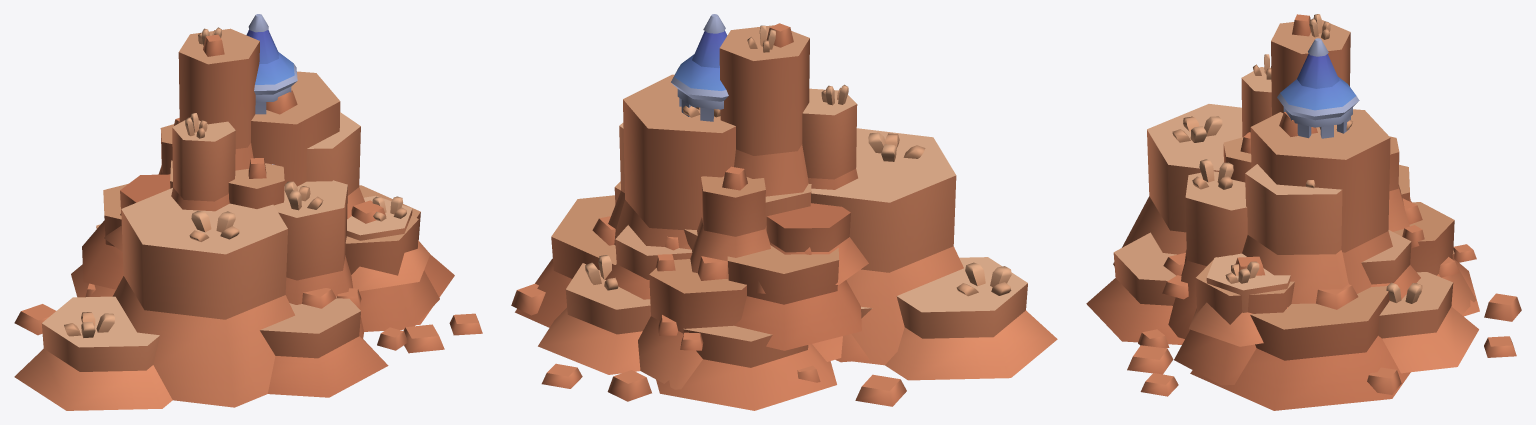
File: island.glb
3 views of the same model, side by side, from view 1: azimuth 30°, elevation 25°; view 2: azimuth 150°, elevation 25°; view 3: azimuth 270°, elevation 25° (orthographic). The views are drawn at different scales.
Parts seen in each view (by area): view 1: rocks-sand-a (×2), rocks-sand-b (×2), tower-complete-large; view 2: rocks-sand-a (×2), rocks-sand-b (×2), tower-complete-large, rocks-sand-c; view 3: rocks-sand-a (×2), rocks-sand-b (×2), tower-complete-large.
Part boxes in pixels (x1,y1,x2,y2): rocks-sand-a (×2): (14, 112, 482, 410); rocks-sand-b (×2): (85, 27, 439, 350); tower-complete-large: (246, 14, 297, 114); rocks-sand-a (×2): (515, 123, 1057, 410); rocks-sand-b (×2): (511, 23, 868, 401); tower-complete-large: (671, 14, 728, 121); rocks-sand-c: (835, 306, 872, 362); rocks-sand-a (×2): (1086, 104, 1516, 410); rocks-sand-b (×2): (1138, 14, 1521, 394); tower-complete-large: (1277, 38, 1359, 138).
Bounding box in the file's own units: 33.23 × 20.91 × 28.84.
Materials: 6 (6 with a texture image).
